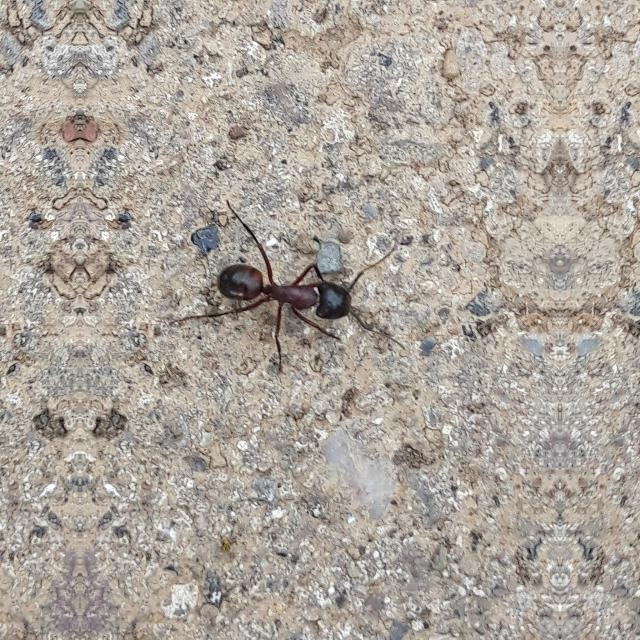Camponotus: (198, 220, 384, 364)
